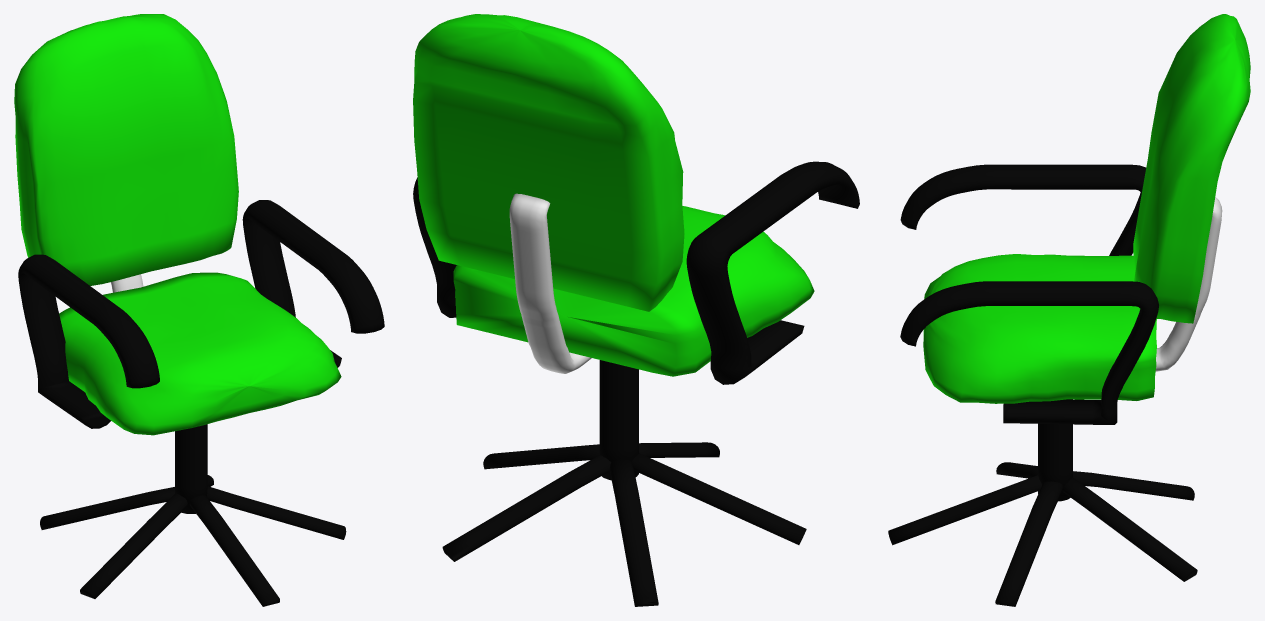
The model's file is Chair2.gltf.
3 views of the same model, side by side, from view 1: azimuth 30°, elevation 25°; view 2: azimuth 150°, elevation 25°; view 3: azimuth 270°, elevation 25° (orthographic). The views are drawn at different scales.
Parts seen in each view (by area): view 1: MnB_OfficeChair1P2, MnB_OfficeChair1P3_8x128, MnB_OfficeChair1P1_16x128; view 2: MnB_OfficeChair1P2, MnB_OfficeChair1P1_16x128, MnB_OfficeChair1P3_8x128, MnB_OfficeChair1P4_16x128; view 3: MnB_OfficeChair1P2, MnB_OfficeChair1P3_8x128, MnB_OfficeChair1P1_16x128, MnB_OfficeChair1P4_16x128.
Part boxes in pixels (x1=…): MnB_OfficeChair1P2: x1=14, y1=14, x2=341, y2=435; MnB_OfficeChair1P3_8x128: x1=18, y1=200, x2=384, y2=428; MnB_OfficeChair1P1_16x128: x1=40, y1=424, x2=346, y2=606; MnB_OfficeChair1P2: x1=413, y1=14, x2=814, y2=376; MnB_OfficeChair1P1_16x128: x1=442, y1=360, x2=806, y2=606; MnB_OfficeChair1P3_8x128: x1=413, y1=161, x2=859, y2=384; MnB_OfficeChair1P4_16x128: x1=509, y1=193, x2=591, y2=373; MnB_OfficeChair1P2: x1=923, y1=14, x2=1250, y2=403; MnB_OfficeChair1P3_8x128: x1=900, y1=164, x2=1158, y2=424; MnB_OfficeChair1P1_16x128: x1=888, y1=399, x2=1197, y2=606; MnB_OfficeChair1P4_16x128: x1=1155, y1=197, x2=1222, y2=371.
Size of the model in its own units: 0.4032 by 0.6944 by 0.4537.
